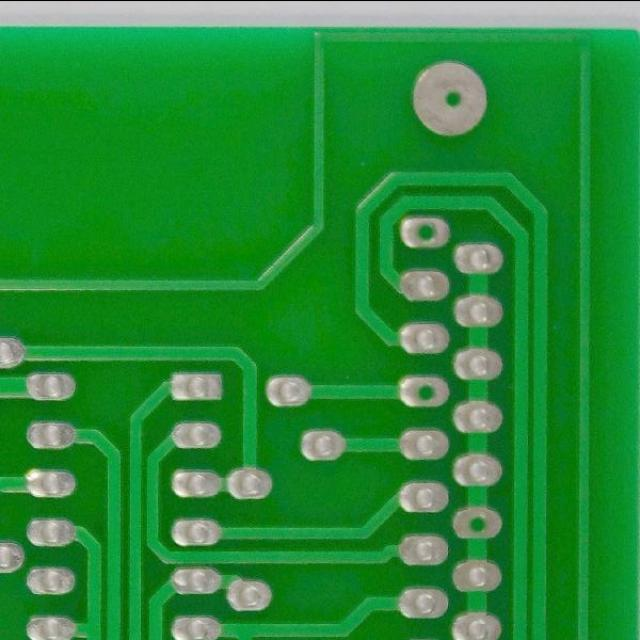Missing_Hole: (400, 53, 497, 142), (447, 501, 508, 544), (394, 370, 456, 412), (394, 211, 456, 253)
